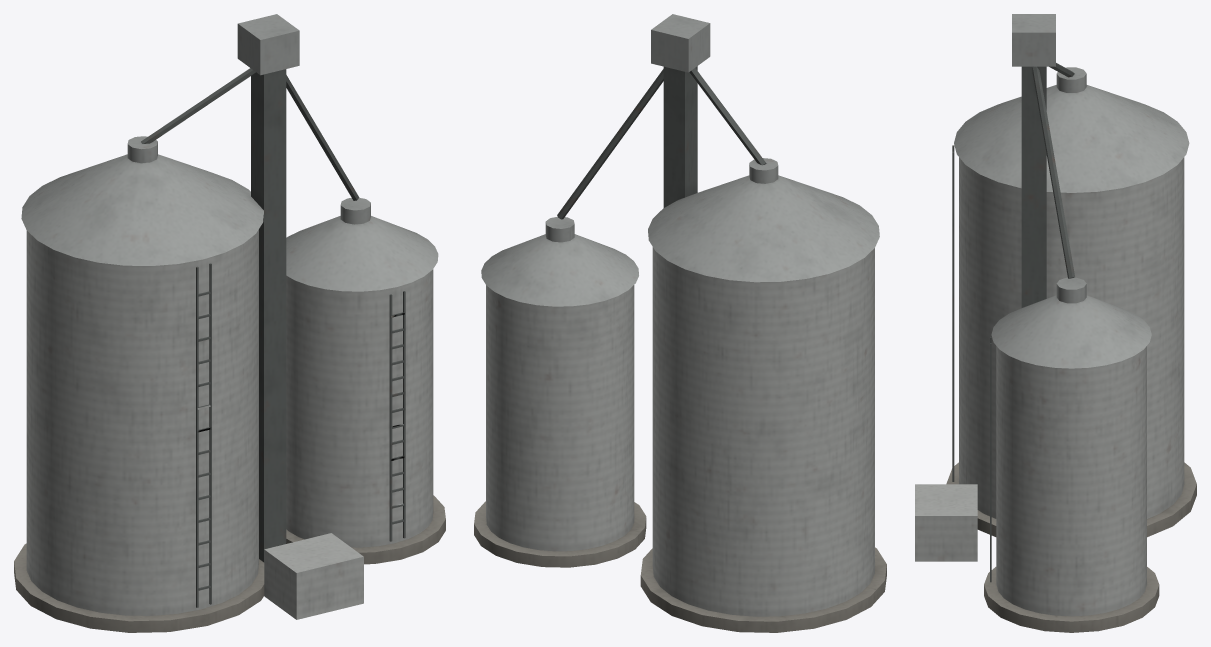
File: grain-silo.fbx
3 views of the same model, side by side, from view 1: azimuth 30°, elevation 25°; view 2: azimuth 150°, elevation 25°; view 3: azimuth 270°, elevation 25° (orthographic). The views are drawn at different scales.
Visible parts, largest first — view 1: grain-silo; view 2: grain-silo; view 3: grain-silo.
Boxes of the visible parts, <box> form: grain-silo: <box>14,14,445,632</box>; grain-silo: <box>474,14,886,632</box>; grain-silo: <box>915,14,1196,632</box>.
Size of the model in its own units: 2016 by 2576 by 1260.
Materials: 1 (1 with a texture image).
